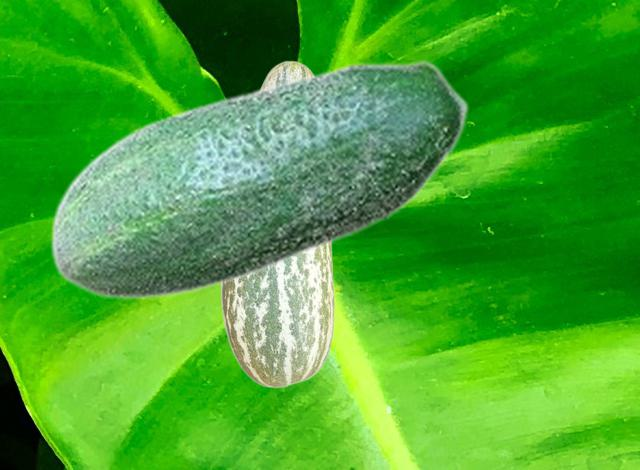cucumber: (49, 59, 469, 299), (220, 60, 334, 387)
